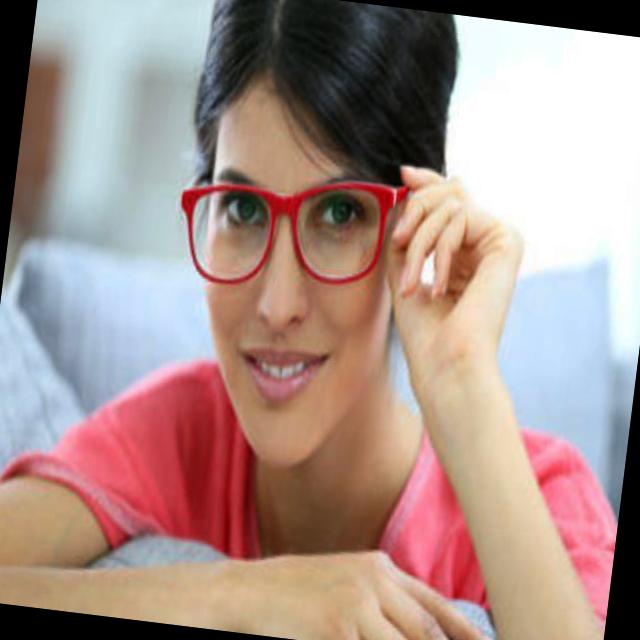glasses: (172, 160, 409, 306)
